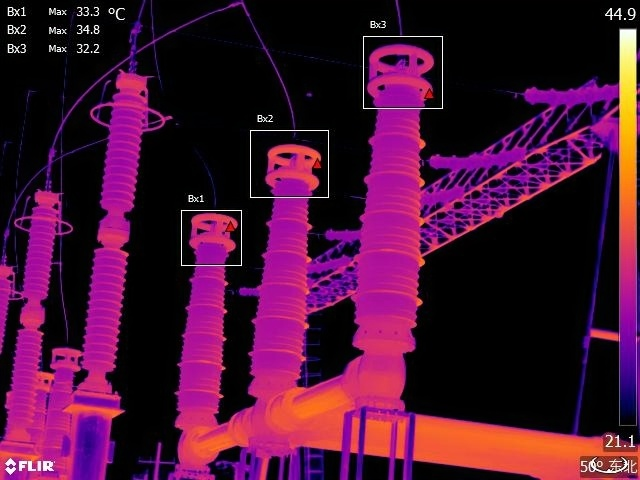insulator: (427, 137, 532, 174), (521, 80, 619, 107), (420, 183, 467, 209), (305, 252, 352, 278), (314, 229, 367, 248)
lightning arrester: (66, 61, 178, 395), (1, 172, 79, 449)
tube: (337, 29, 443, 355), (243, 133, 323, 394), (167, 196, 242, 435), (43, 336, 88, 462), (31, 366, 52, 448)
